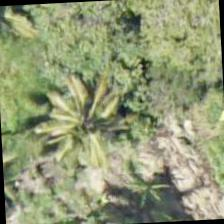Kelapa_Sawit: (38, 84, 132, 179)
